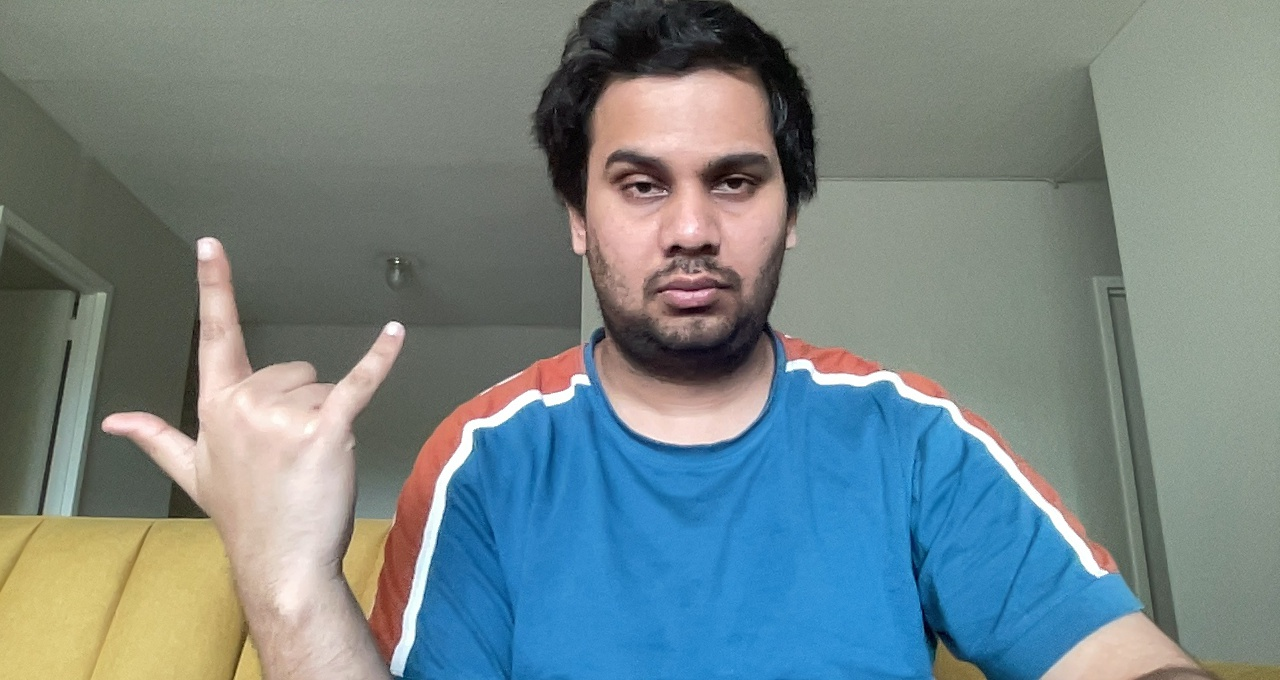rockon sign: (97, 226, 416, 565)
